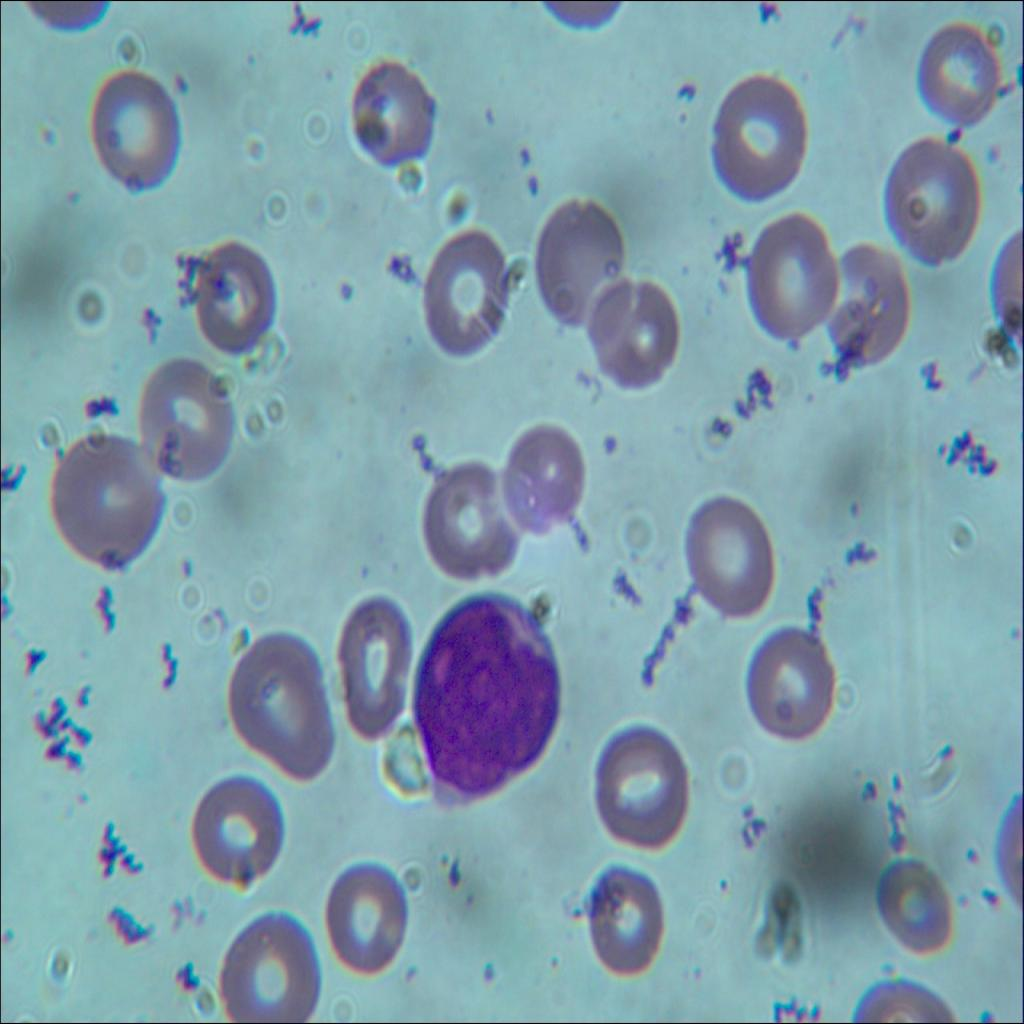Eritrosit: (228, 630, 338, 782), (46, 434, 164, 562), (703, 68, 804, 204), (415, 222, 514, 360), (590, 724, 689, 856), (883, 132, 979, 268), (739, 212, 839, 342), (136, 355, 233, 488), (531, 192, 623, 327), (214, 908, 320, 1023), (336, 591, 413, 748), (422, 462, 522, 581), (186, 774, 289, 884), (742, 621, 836, 741), (824, 239, 910, 369), (90, 72, 181, 194), (866, 849, 958, 964), (188, 236, 275, 357), (686, 499, 773, 619), (502, 421, 586, 539), (349, 61, 435, 175), (590, 278, 678, 388), (918, 17, 1002, 128), (326, 859, 403, 979), (579, 865, 662, 972)
Limfoblast: (413, 594, 563, 795)
Platelet: (435, 852, 469, 888), (839, 489, 869, 528), (174, 552, 204, 591), (784, 325, 808, 369), (474, 961, 500, 994), (943, 125, 969, 158), (103, 126, 131, 155), (34, 124, 60, 154), (981, 884, 1003, 918), (715, 868, 733, 909), (333, 278, 356, 310), (986, 132, 1006, 168), (522, 170, 544, 202), (675, 74, 695, 108), (239, 46, 262, 75), (406, 426, 428, 456), (603, 428, 624, 458), (354, 558, 375, 584), (516, 139, 536, 165), (61, 186, 84, 208), (320, 58, 338, 85), (479, 106, 501, 128), (963, 845, 983, 868), (674, 108, 691, 129), (958, 888, 971, 915)
